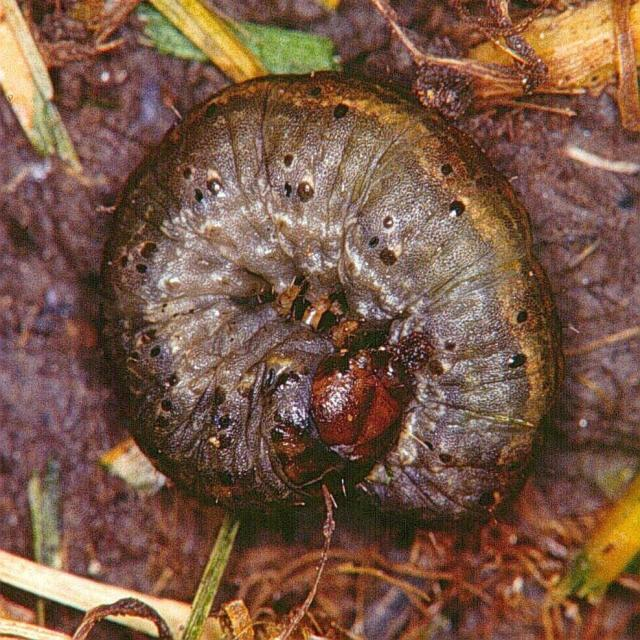black cutworm: (95, 73, 560, 519)
